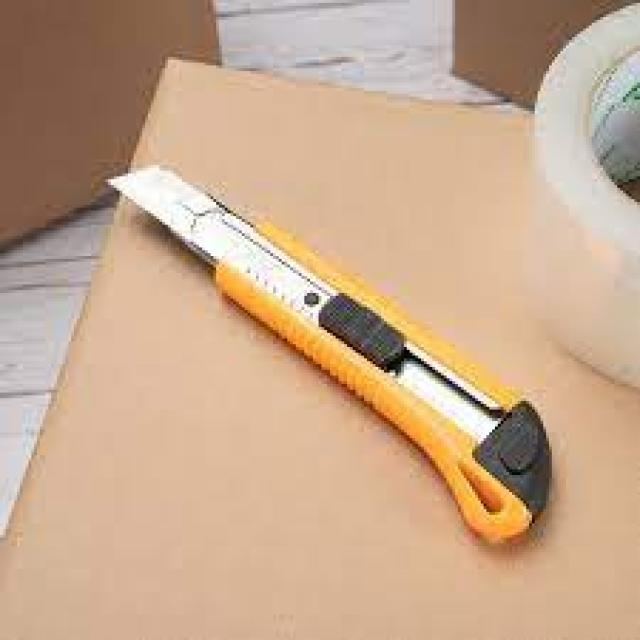cutter: (102, 162, 564, 548)
